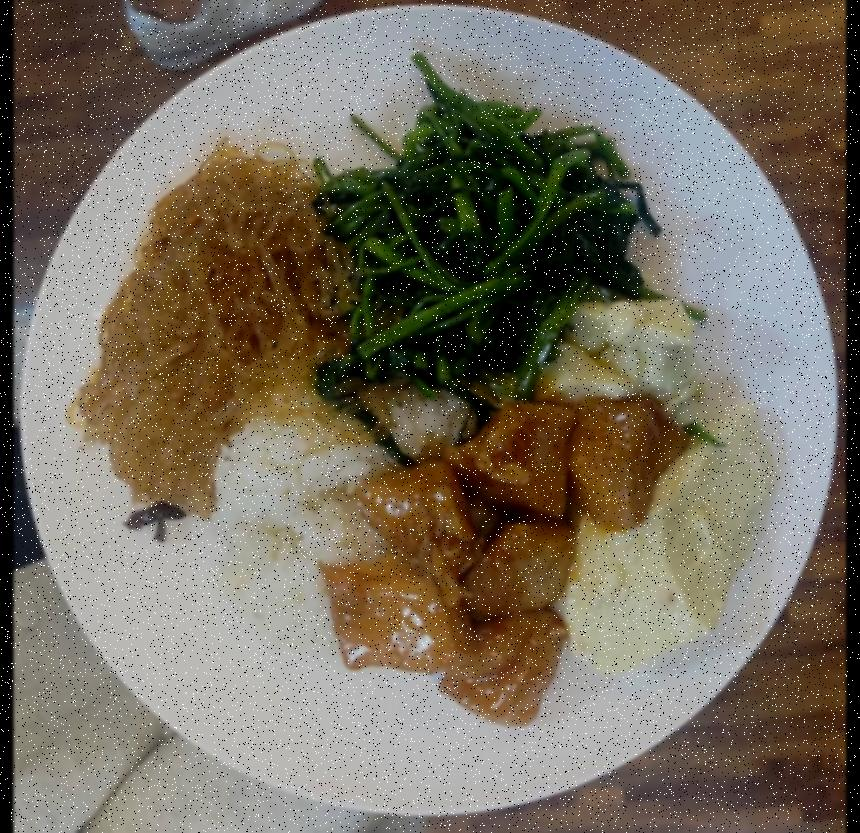plate: (26, 5, 846, 822)
side dish: (318, 67, 657, 413), (64, 134, 356, 511), (545, 291, 780, 669)
spicy chicken: (320, 392, 676, 723)
white rice: (208, 357, 475, 637)
